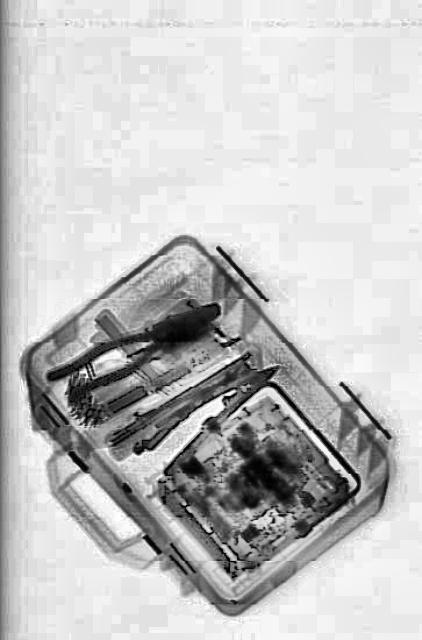Pliers: (44, 283, 224, 411)
